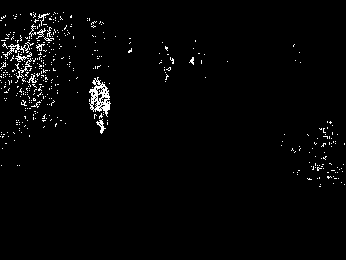person: (85, 73, 110, 136)
